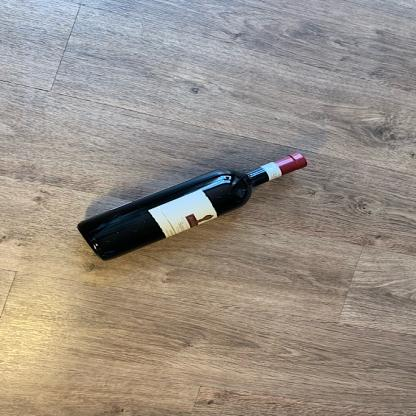trash: (75, 148, 311, 262)
